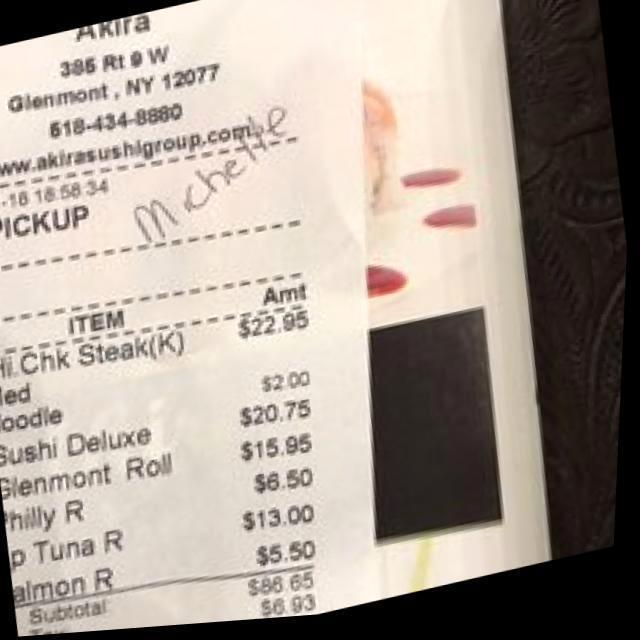Paper: (0, 0, 384, 640)
